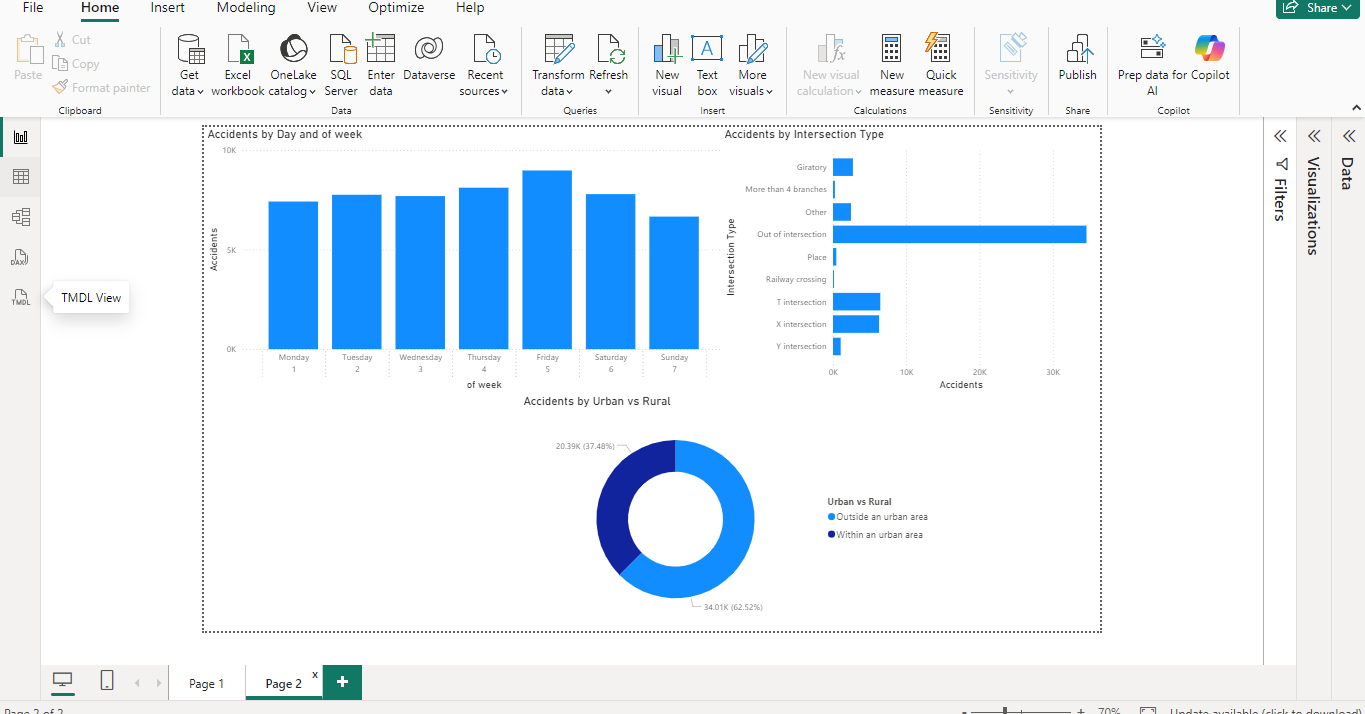

Layout of this report page (visuals, bound fields, positions):
{"tool":"powerbi","page":{"name":"Page 2","canvas":[1280,720],"ordinal":1},"visuals":[{"type":"clusteredColumnChart","fields":{"Category":["caracteristiques_2024_clean.Day_Sort","caracteristiques_2024_clean.Day_Name"],"Y":["CountNonNull(caracteristiques_2024_clean.Num_Acc)"]},"box":[0,0,750,381.4],"z":0},{"type":"donutChart","fields":{"Category":["caracteristiques_2024_clean.Location_Type"],"Y":["CountNonNull(caracteristiques_2024_clean.Num_Acc)"]},"box":[451.4,381.4,597.1,338.6],"z":1000},{"type":"barChart","fields":{"Category":["caracteristiques_2024_clean.Intersection_Type"],"Y":["CountNonNull(caracteristiques_2024_clean.Num_Acc)"]},"box":[738.6,0,541.4,381.4],"z":2000}]}

Visuals, with their boxes on the page's 1280x720 design canvas (x1, y1, x2, y2). These are canvas units, not pixel positions in the 1365x714 screenshot, which may show the page scaled, cropped or inside an application window:
clusteredColumnChart - caracteristiques_2024_clean.Day_Sort x caracteristiques_2024_clean.Day_Name: <bbox>0, 0, 750, 381</bbox>
donutChart - caracteristiques_2024_clean.Location_Type x CountNonNull(caracteristiques_2024_clean.Num_Acc): <bbox>451, 381, 1048, 720</bbox>
barChart - caracteristiques_2024_clean.Intersection_Type x CountNonNull(caracteristiques_2024_clean.Num_Acc): <bbox>739, 0, 1280, 381</bbox>
